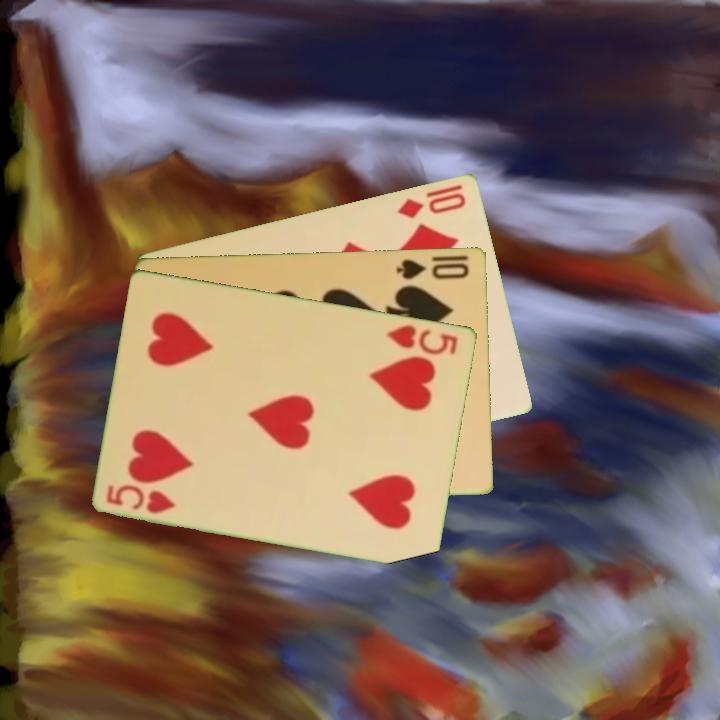10d: (394, 188, 469, 221)
10s: (393, 255, 472, 282)
5h: (384, 320, 461, 357), (103, 480, 180, 516)
